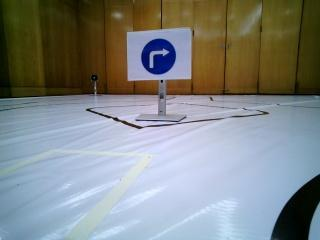right: (126, 30, 191, 80)
